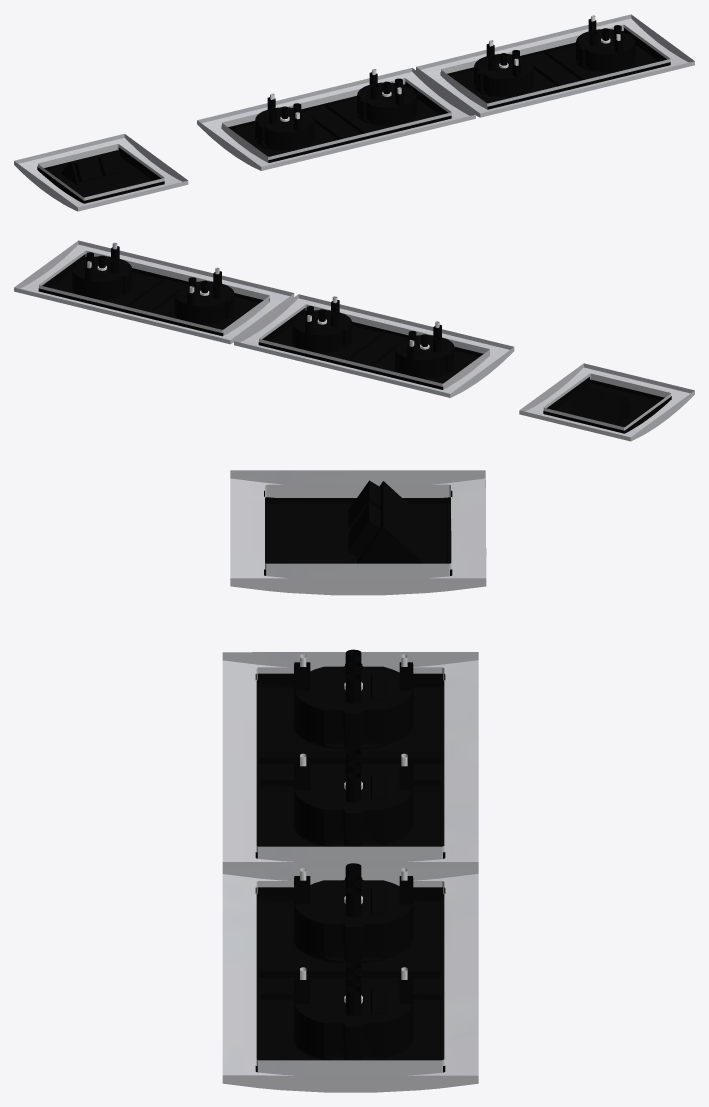
File: SM_Socket_036.obj
3 views of the same model, one above another, from view 1: azimuth 30°, elevation 25°; view 2: azimuth 150°, elevation 25°; view 3: azimuth 270°, elevation 25° (orthographic). The views are drawn at different scales.
Visible parts, largest first — view 1: SM_Socket_036; view 2: SM_Socket_036; view 3: SM_Socket_036.
Boxes of the visible parts, x1,y1,x2,y2 form: SM_Socket_036: [14, 14, 694, 211]; SM_Socket_036: [14, 240, 694, 441]; SM_Socket_036: [222, 470, 486, 1092].
Size of the model in its own units: 0.4638 by 0.0251 by 0.086.
3 materials, 2 textured.
